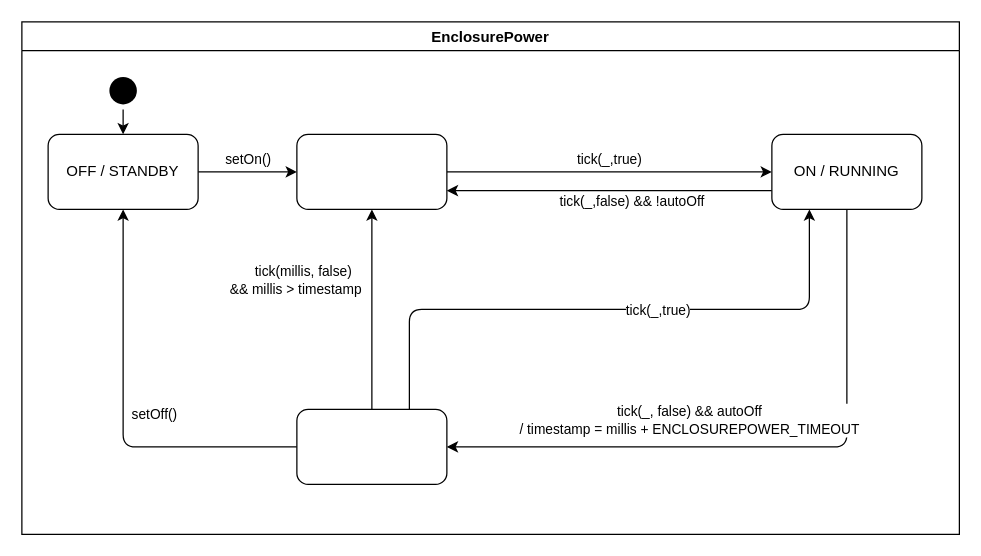
Some shapes in this 981 by 556 pixel diagram are drawn without their labels. Here are the shapes that lost their labels. From the top down, the centre of each, then its label:
At point 371,171: "ON / STANDBY".
At point 371,446: "SHUTDOWN / STANDBY".
